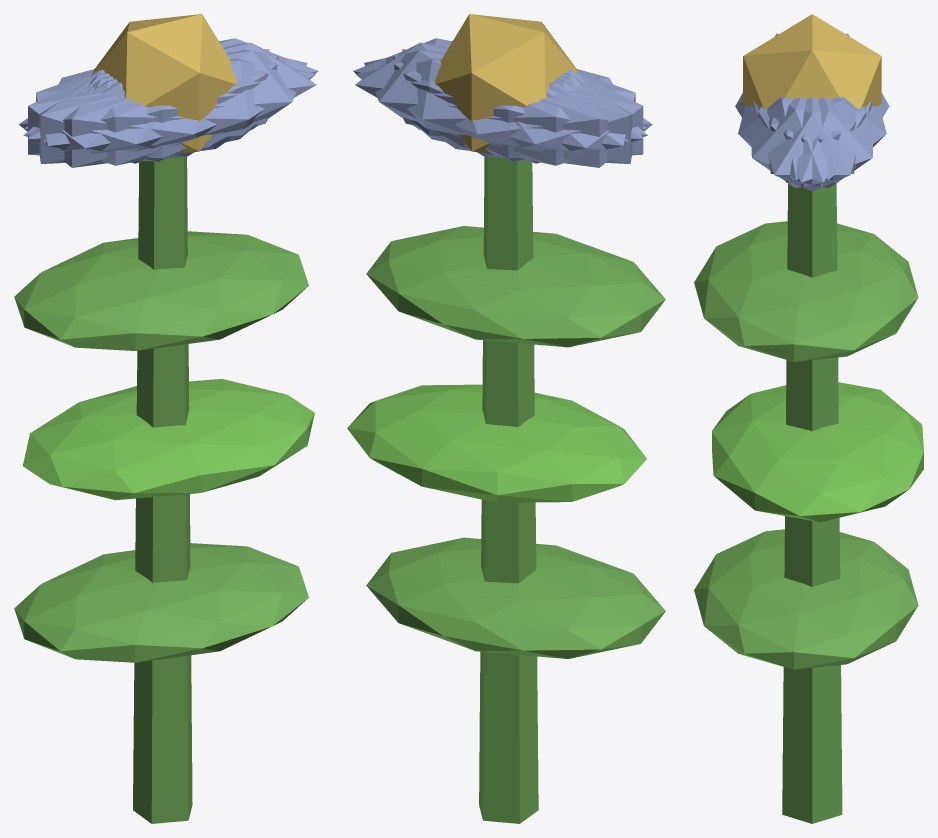
File: salvia-rosmarinus.glb
3 views of the same model, side by side, from view 1: azimuth 30°, elevation 25°; view 2: azimuth 150°, elevation 25°; view 3: azimuth 270°, elevation 25° (orthographic).
Visible parts, largest first — view 1: leaf2, leaf0, leaf1, stem, center, petal1, petal6, petal2, petal5, petal7, petal0, petal4 (+2 smaller); view 2: leaf2, leaf1, leaf0, stem, center, petal8, petal3, petal7, petal4, petal2, petal0, petal5 (+2 smaller); view 3: leaf2, leaf1, leaf0, stem, center, petal0, petal5, petal4, petal1, petal8.
Part boxes in pixels (bbox=[...]): leaf2: bbox=[14, 231, 308, 350]; leaf0: bbox=[14, 543, 308, 662]; leaf1: bbox=[23, 379, 314, 500]; stem: bbox=[133, 157, 192, 823]; center: bbox=[92, 14, 236, 153]; petal1: bbox=[23, 58, 315, 165]; petal6: bbox=[19, 71, 230, 167]; petal2: bbox=[39, 49, 269, 163]; petal5: bbox=[43, 50, 307, 158]; petal7: bbox=[28, 55, 277, 161]; petal0: bbox=[92, 42, 316, 147]; petal4: bbox=[24, 38, 318, 139]; leaf2: bbox=[366, 226, 665, 347]; leaf1: bbox=[347, 384, 646, 502]; leaf0: bbox=[366, 537, 665, 658]; stem: bbox=[479, 157, 538, 823]; center: bbox=[435, 14, 578, 153]; petal8: bbox=[356, 58, 647, 165]; petal3: bbox=[441, 71, 652, 167]; petal7: bbox=[402, 49, 632, 163]; petal4: bbox=[364, 50, 628, 158]; petal2: bbox=[393, 55, 643, 161]; petal0: bbox=[355, 42, 579, 147]; petal5: bbox=[353, 38, 646, 138]; leaf2: bbox=[694, 221, 918, 361]; leaf1: bbox=[712, 382, 923, 522]; leaf0: bbox=[694, 529, 918, 669]; stem: bbox=[782, 183, 842, 823]; center: bbox=[743, 14, 881, 108]; petal0: bbox=[753, 97, 871, 191]; petal5: bbox=[751, 97, 866, 188]; petal4: bbox=[758, 97, 873, 188]; petal1: bbox=[738, 97, 855, 179]; petal8: bbox=[768, 97, 886, 179].
Bounding box in the file's own units: 0.1452 × 0.3802 × 0.1018.
